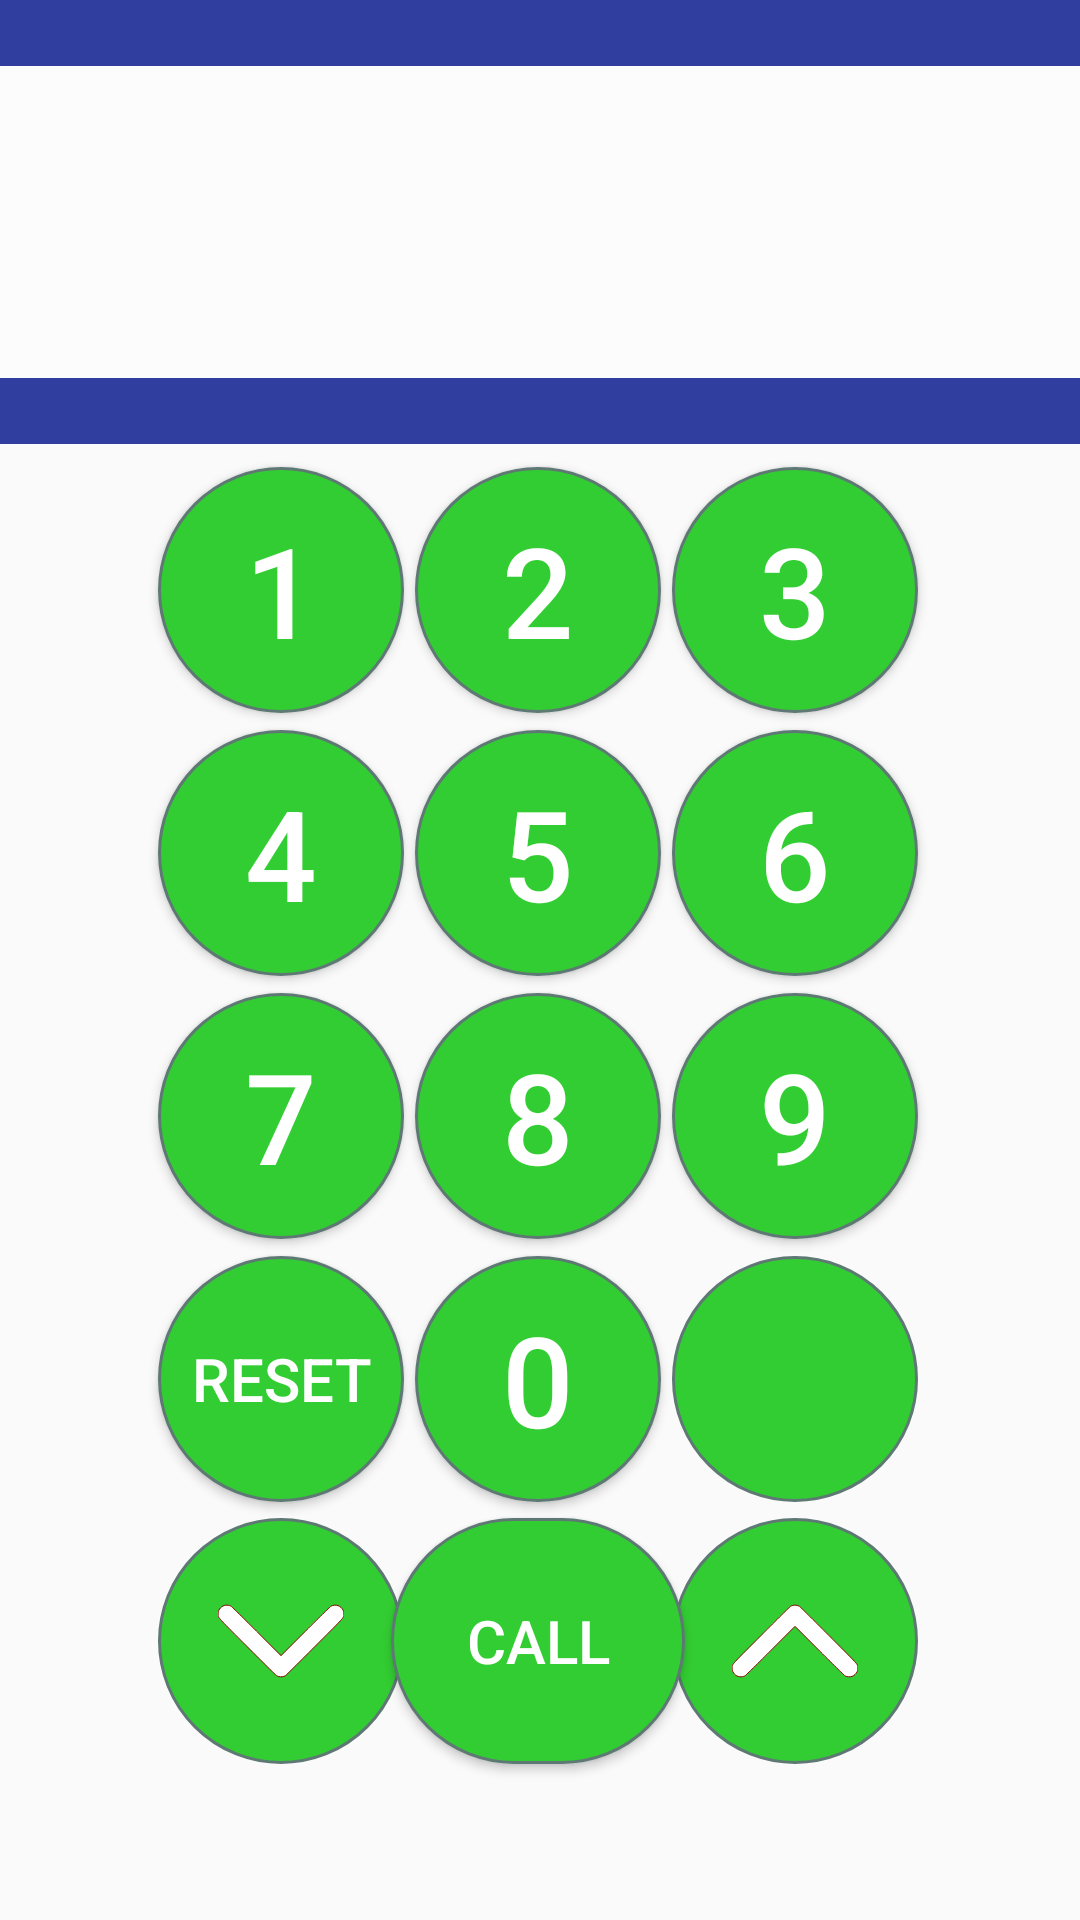

Where icons sit on this 1080 × 1920 app screen, as (x1, y1, x2, y2):
navigate down arrow: (158, 1518, 404, 1764)
navigate up arrow: (672, 1518, 918, 1764)
